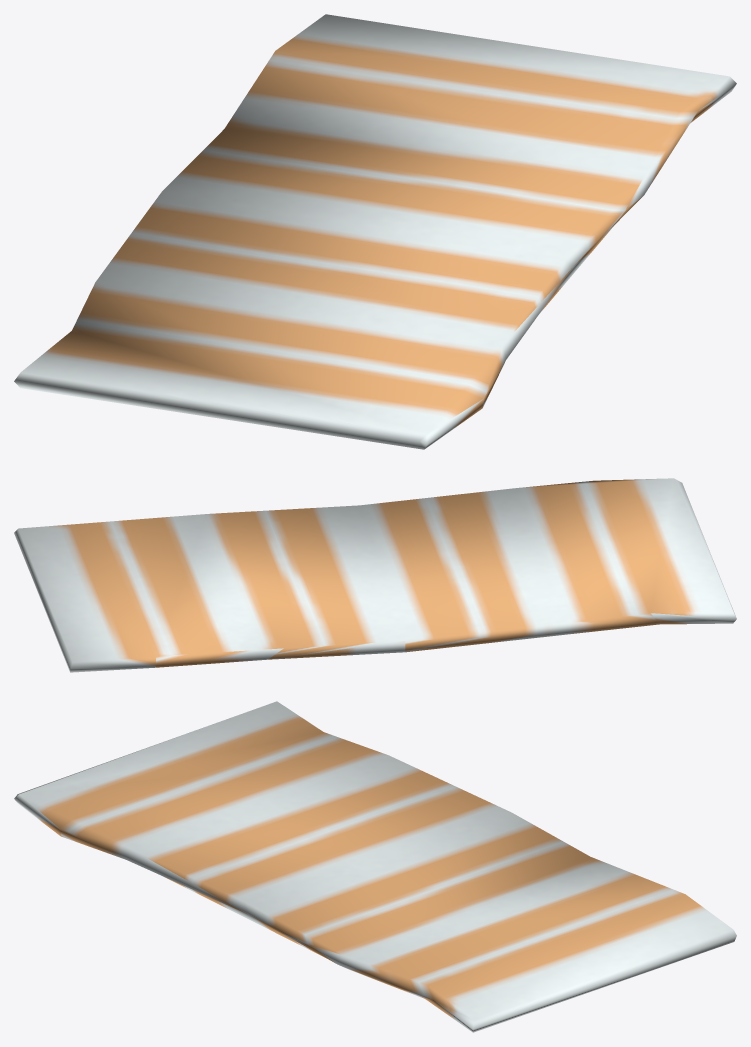
The model's file is OrangeTowels.fbx.
The picture shows the model from 3 angles, top to bottom: view 1: azimuth 30°, elevation 25°; view 2: azimuth 150°, elevation 25°; view 3: azimuth 270°, elevation 25°; orthographic projection. The views are drawn at different scales.
Parts seen in each view (by area): view 1: OrangeTowelGeo_52; view 2: OrangeTowelGeo_52; view 3: OrangeTowelGeo_52.
Part boxes in pixels (x1,y1,x2,y2): OrangeTowelGeo_52: (14, 14, 736, 449); OrangeTowelGeo_52: (14, 478, 736, 672); OrangeTowelGeo_52: (14, 701, 736, 1032).
Bounding box in the file's own units: 230 × 5.89 × 216.
Materials: 1 (1 with a texture image).
